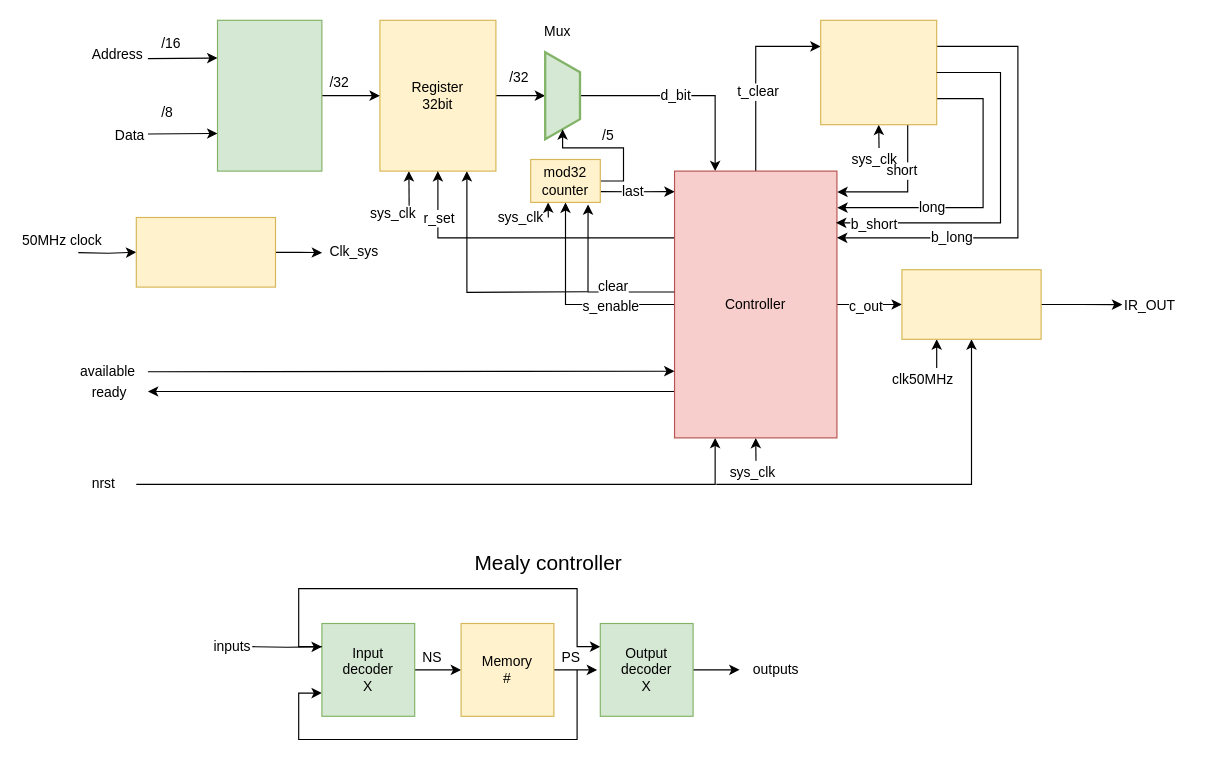
Image size: 1211x769. Some labels were removed from this diagram. Here are the shapes that lost their labels. From the top down, the centre of each, then its label:
(x=878, y=72): limited counter [max = 1757]
(x=269, y=95): Data formatter
(x=205, y=251): Clock divider
(x=971, y=304): Modulator
